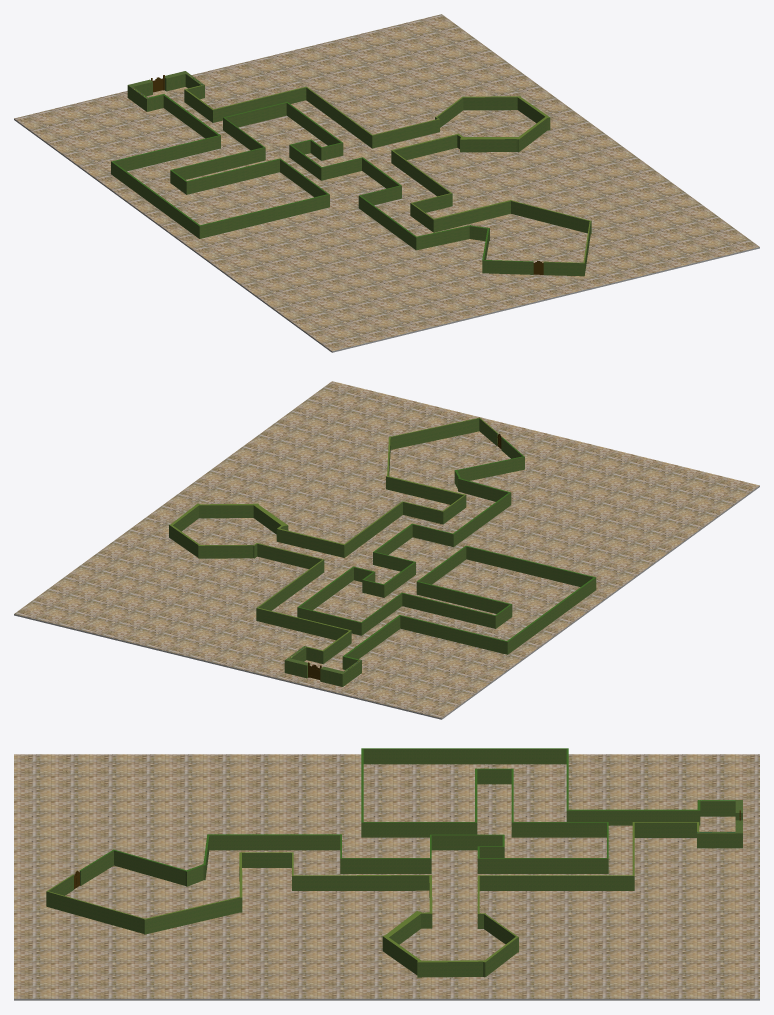
Rendered from dungeonmaze.fbx.
3 renders of one model, top to bottom at view 1: azimuth 30°, elevation 25°; view 2: azimuth 150°, elevation 25°; view 3: azimuth 270°, elevation 25°, orthographic. The views are drawn at different scales.
Visible parts, largest first — view 1: floor, wall2, wall1; view 2: floor, wall2, wall1; view 3: floor, wall2, wall1.
Boxes of the visible parts, left/top/right/bottom form: floor: left=14, top=14, right=759, bottom=352; wall2: left=111, top=79, right=533, bottom=274; wall1: left=164, top=71, right=591, bottom=276; floor: left=14, top=381, right=759, bottom=719; wall2: left=297, top=437, right=596, bottom=686; wall1: left=169, top=417, right=498, bottom=678; floor: left=14, top=754, right=759, bottom=1000; wall2: left=79, top=748, right=742, bottom=886; wall1: left=46, top=820, right=742, bottom=977.
Bounding box in the file's own units: 345 × 12.67 × 444.
Materials: 4 (2 with a texture image).
